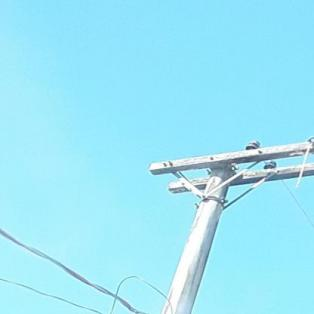Poste: (28, 146, 258, 314)
